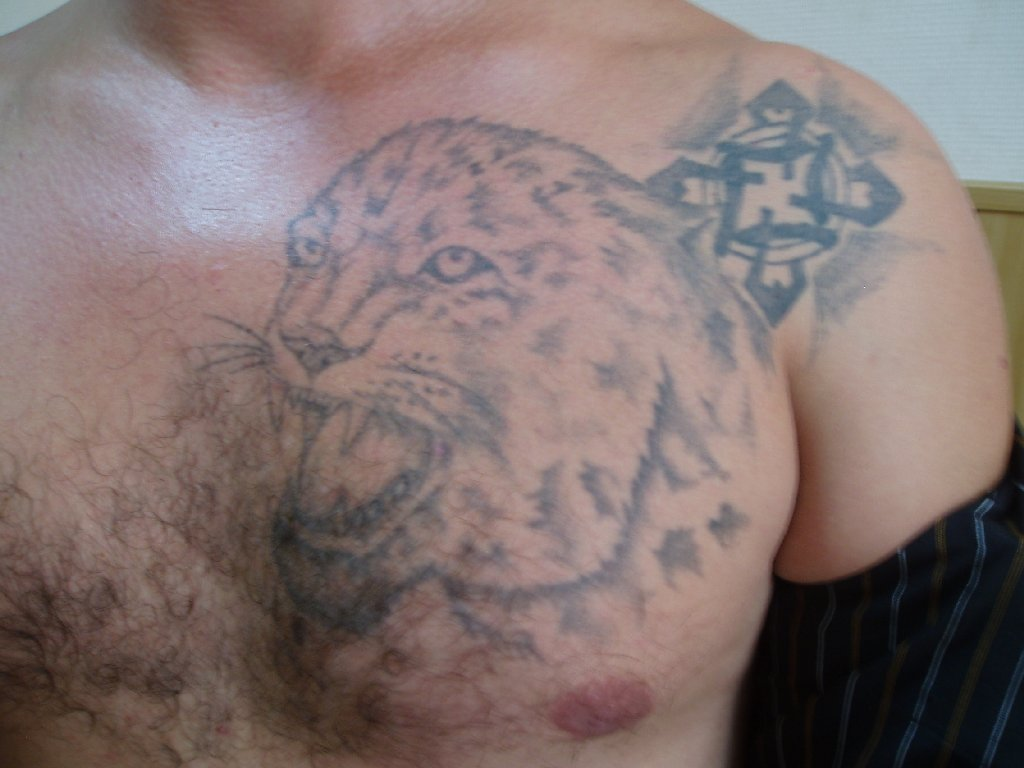tatu5_tigr: (258, 115, 773, 625)
